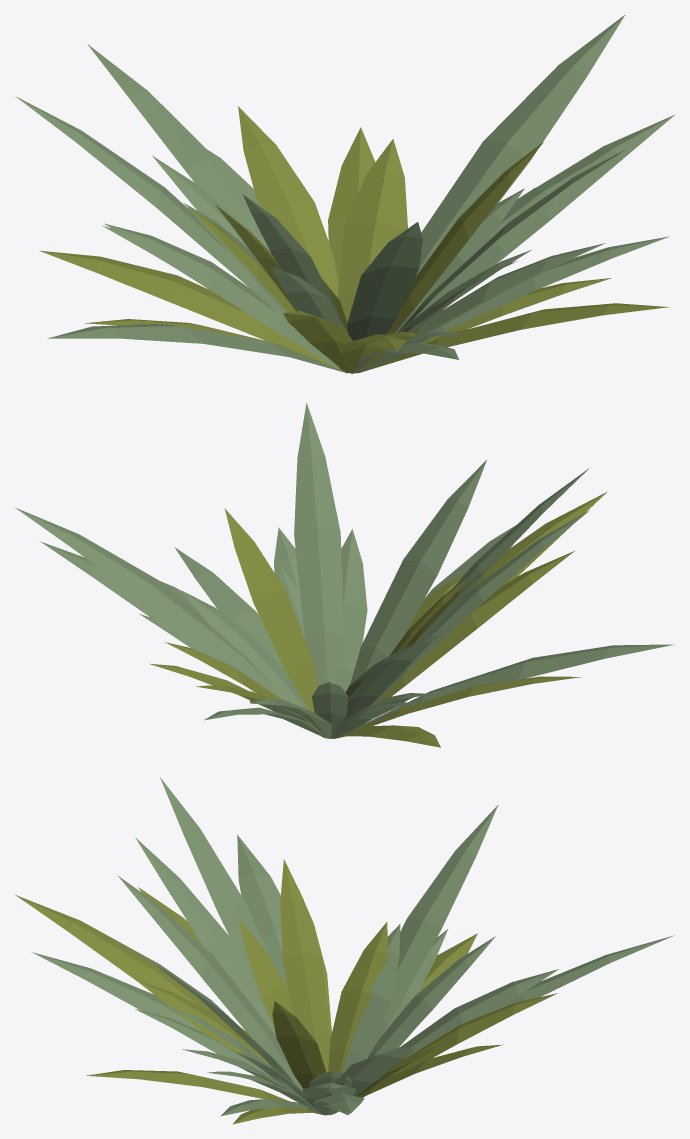
File: agave_green.glb
The picture shows the model from 3 angles, top to bottom: view 1: azimuth 30°, elevation 25°; view 2: azimuth 150°, elevation 25°; view 3: azimuth 270°, elevation 25°; orthographic projection. The views are drawn at different scales.
Parts seen in each view (by area): view 1: agave_green; view 2: agave_green; view 3: agave_green.
Boxes of the visible parts, left/top/right/bottom form: agave_green: left=15, top=14, right=675, bottom=373; agave_green: left=15, top=403, right=673, bottom=747; agave_green: left=14, top=777, right=674, bottom=1124.
Bounding box in the file's own units: 1.65 × 0.6759 × 1.63.
